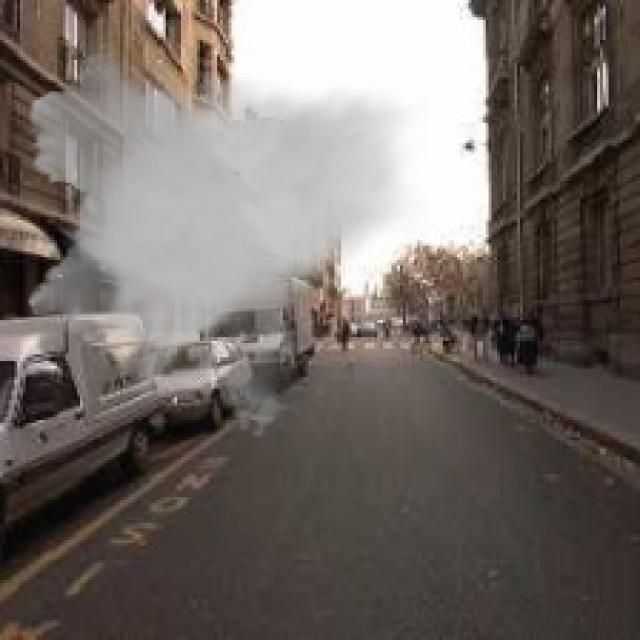smoke: (17, 40, 429, 440)
